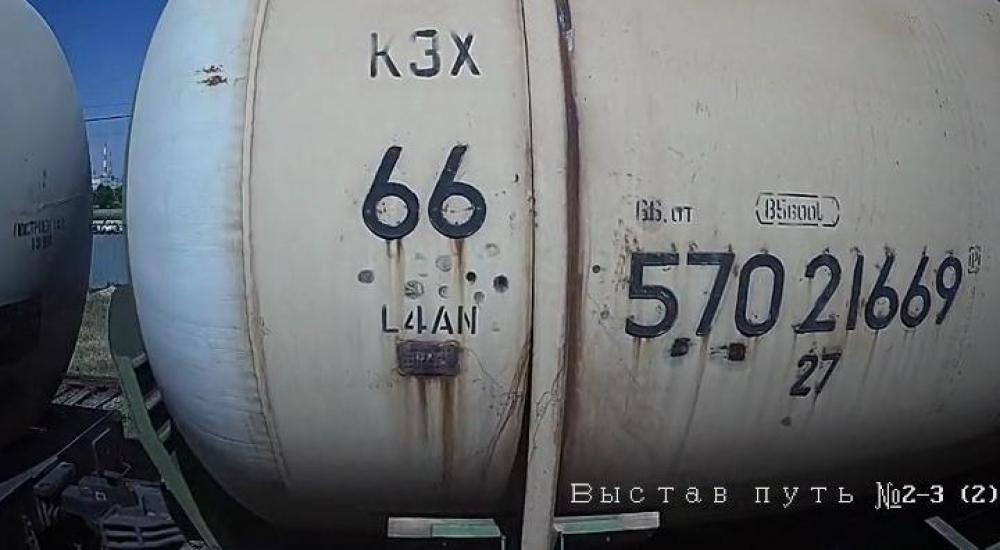Wagon-number: (622, 247, 966, 342)
